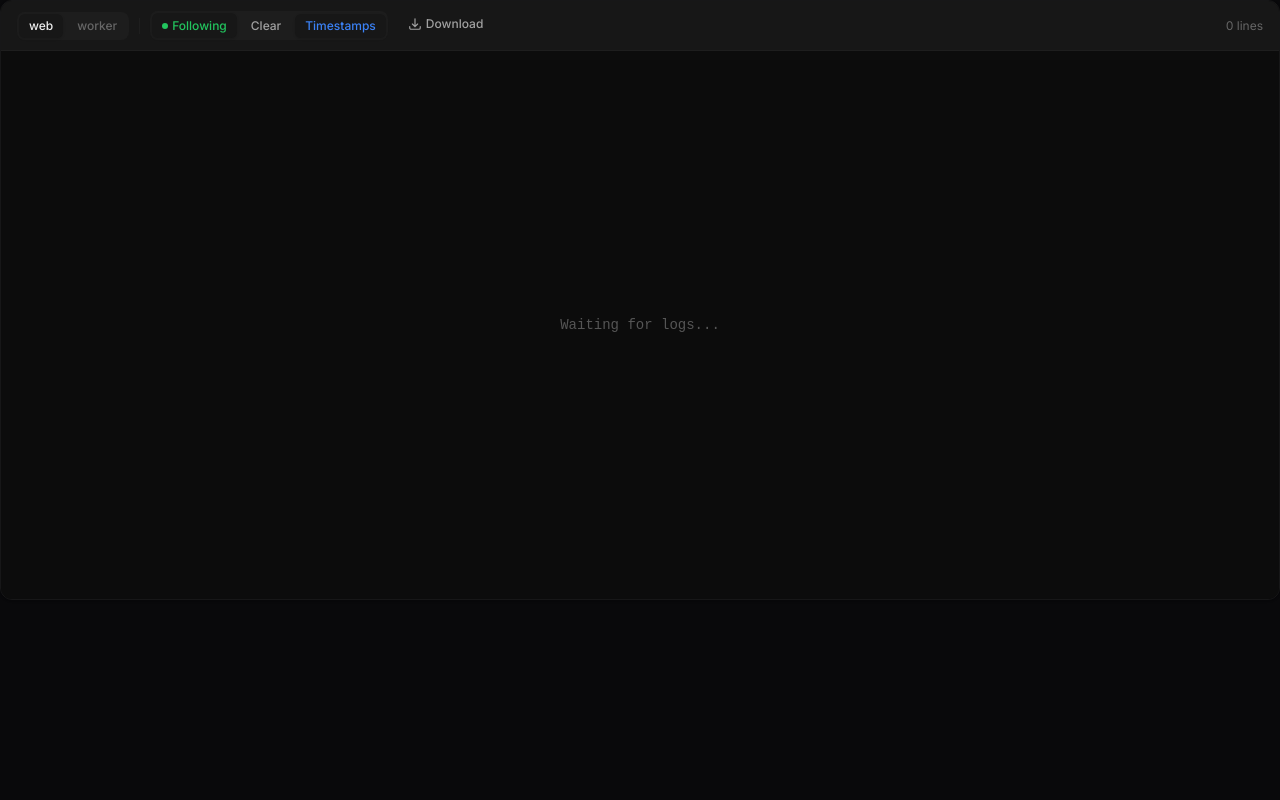
LogViewer › toggles follow button label
Click the button "Following".
click(194, 26)  # box [152,13,237,38]
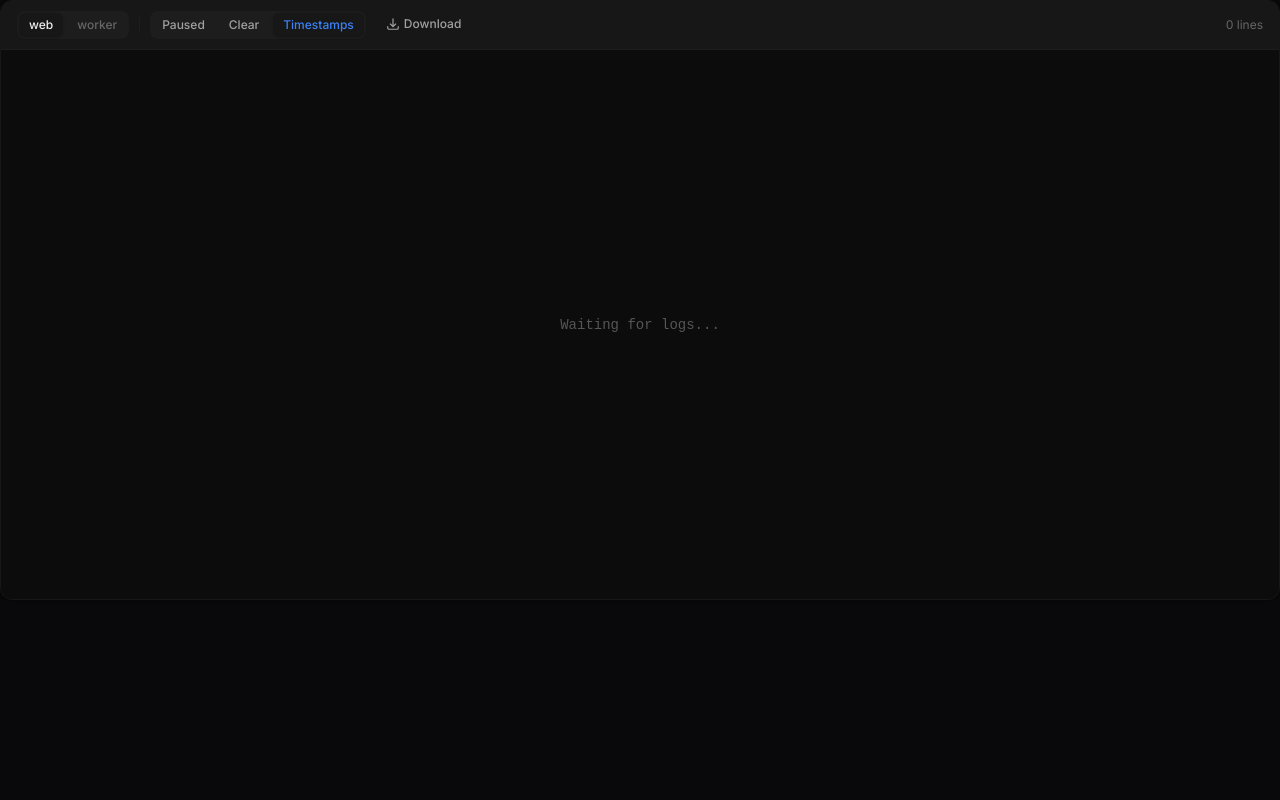
Check: the text "Paused" is shown, box [162,17,205,33]
